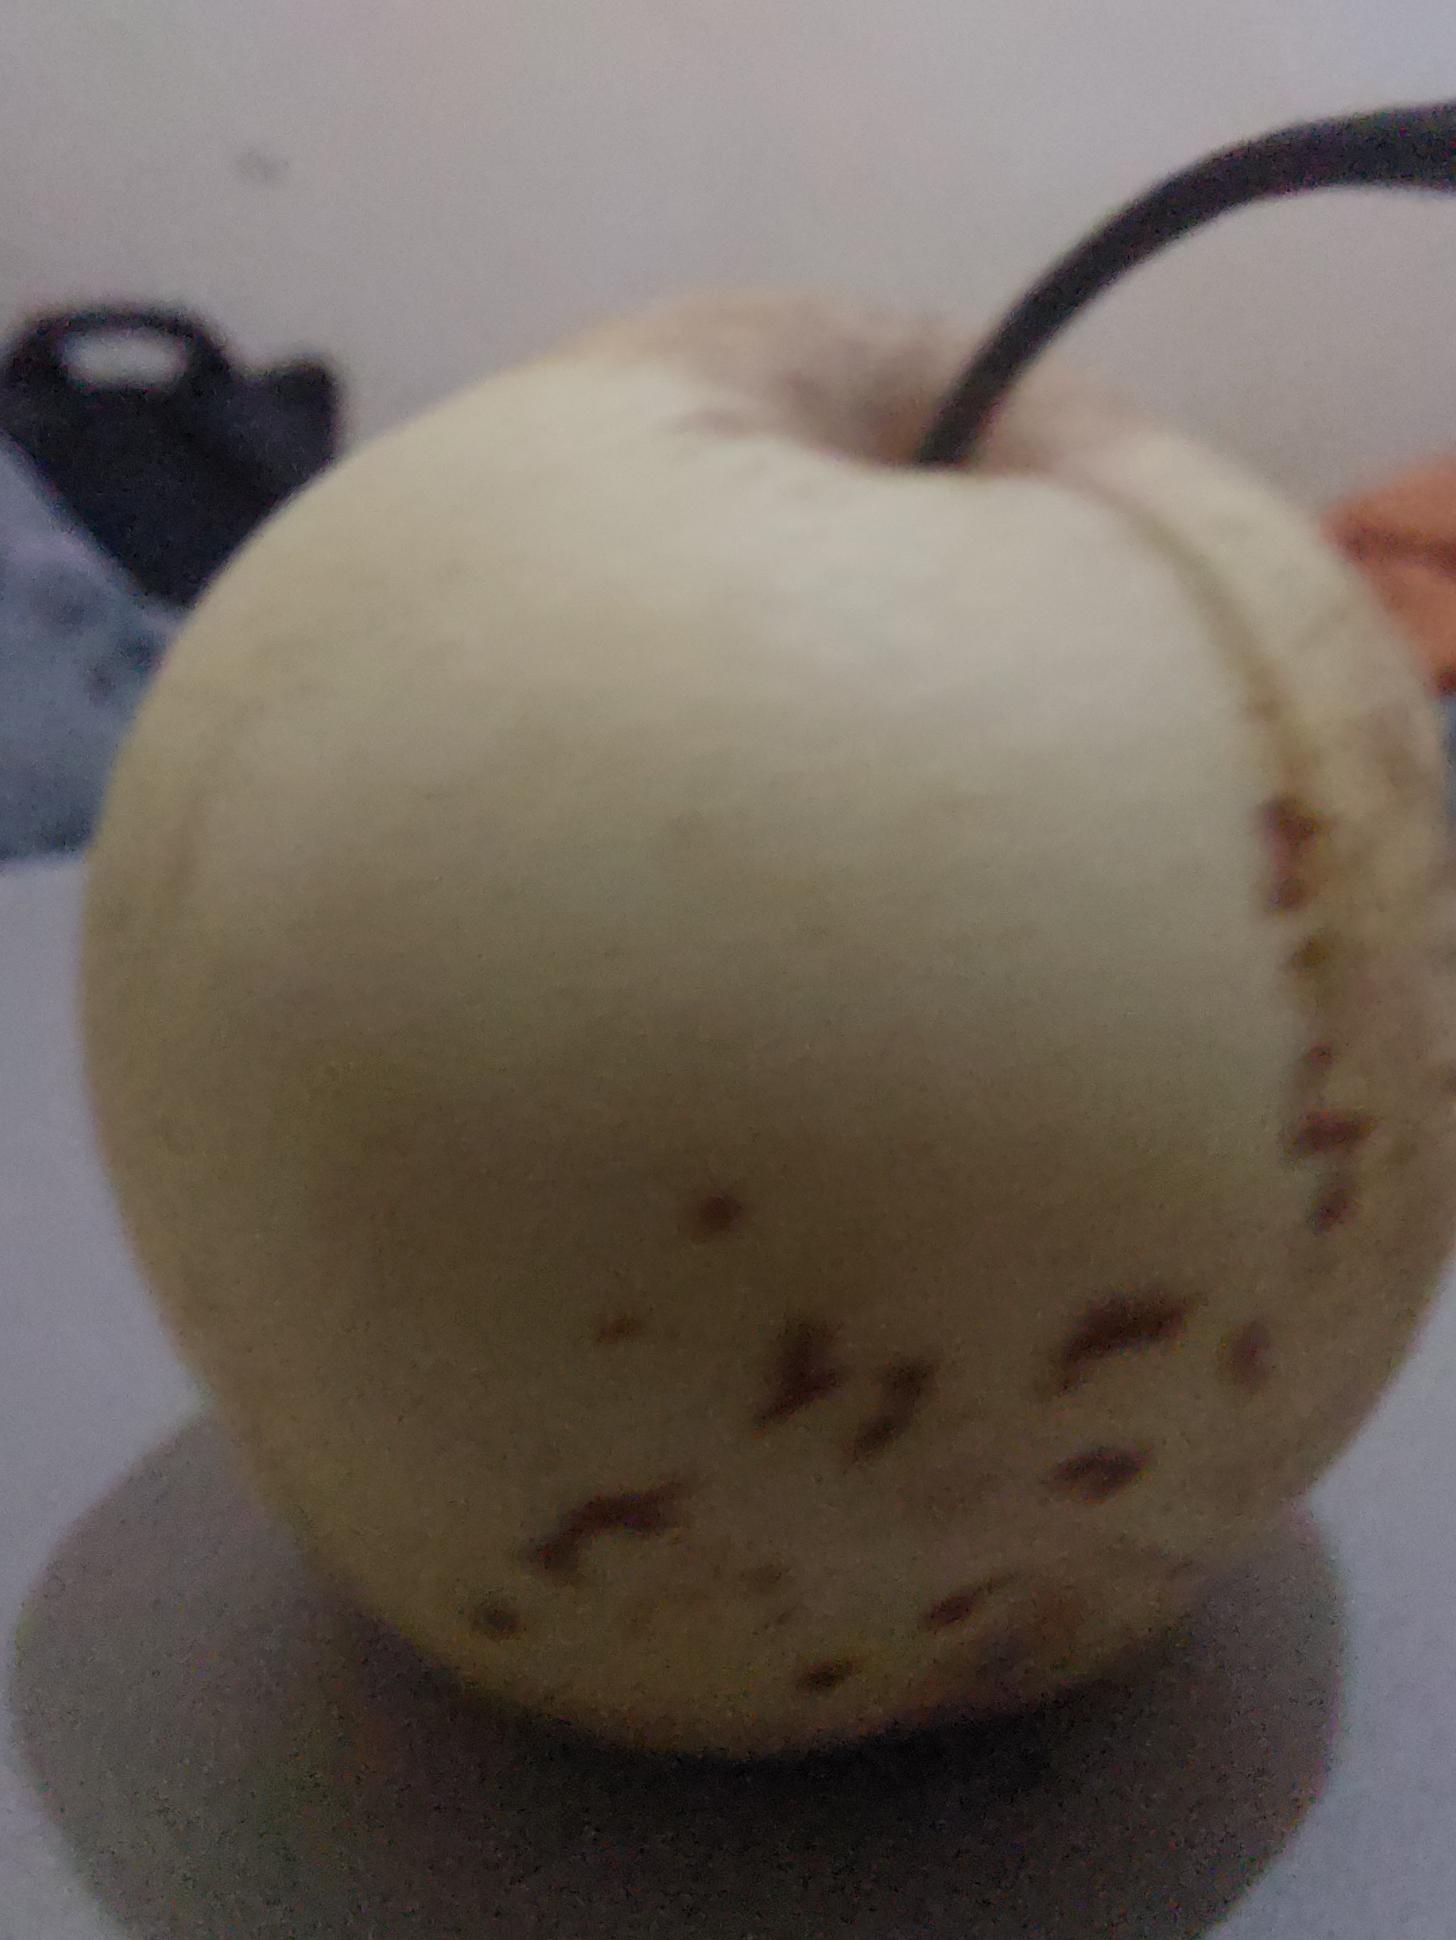Bad Pear: (15, 271, 1456, 1804)
